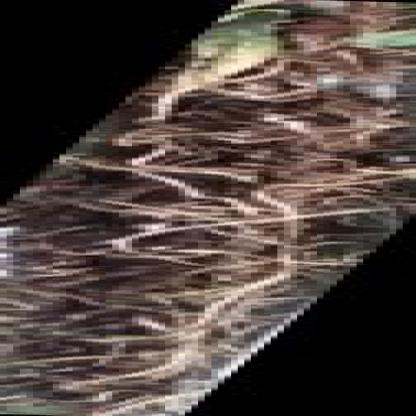Wheat Smut: (15, 206, 350, 272), (10, 283, 158, 408), (43, 153, 365, 195), (131, 112, 396, 144), (158, 80, 371, 104), (230, 43, 413, 68), (246, 3, 414, 28)
